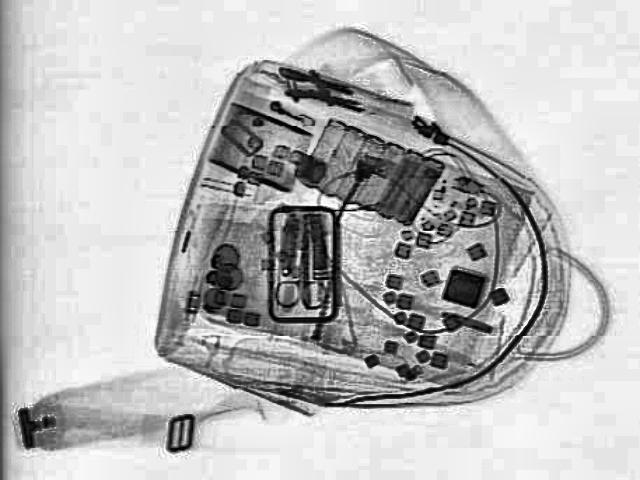Scissors: (272, 232, 332, 308)
